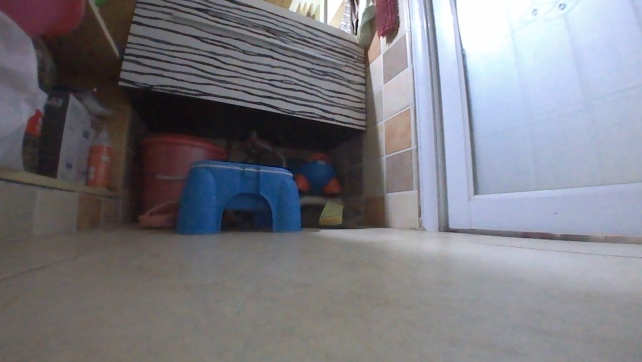door_anno: (402, 0, 641, 260)
